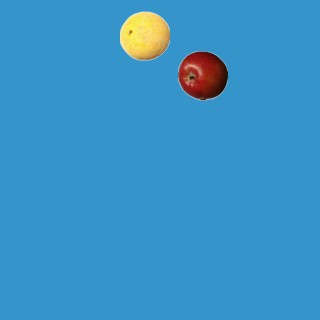Apple Braeburn: (177, 50, 227, 100)
Cantaloupe 1: (119, 10, 169, 60)
